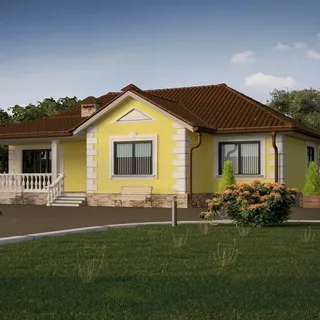private_hause: (16, 94, 316, 199)
